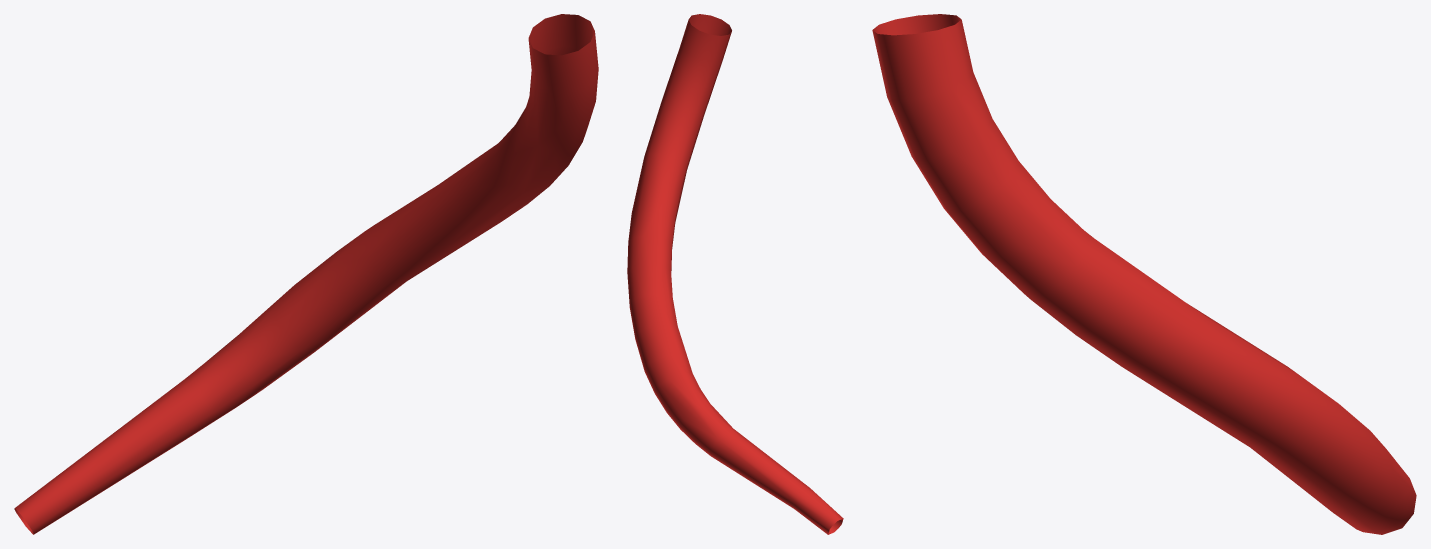
File: circulatorio-calcaneal-branches-of-fibular-artery-l.glb
3 renders of one model, left to right at view 1: azimuth 30°, elevation 25°; view 2: azimuth 150°, elevation 25°; view 3: azimuth 270°, elevation 25°, orthographic. The views are drawn at different scales.
Visible parts, largest first — view 1: Calcaneal branches of fibular artery.l; view 2: Calcaneal branches of fibular artery.l; view 3: Calcaneal branches of fibular artery.l.
Part boxes in pixels (x1,y1,x2,y2): Calcaneal branches of fibular artery.l: (14,14,598,534); Calcaneal branches of fibular artery.l: (627,14,843,534); Calcaneal branches of fibular artery.l: (872,14,1416,534).
Size of the model in its own units: 0.00856 by 0.0108 by 0.00724.
